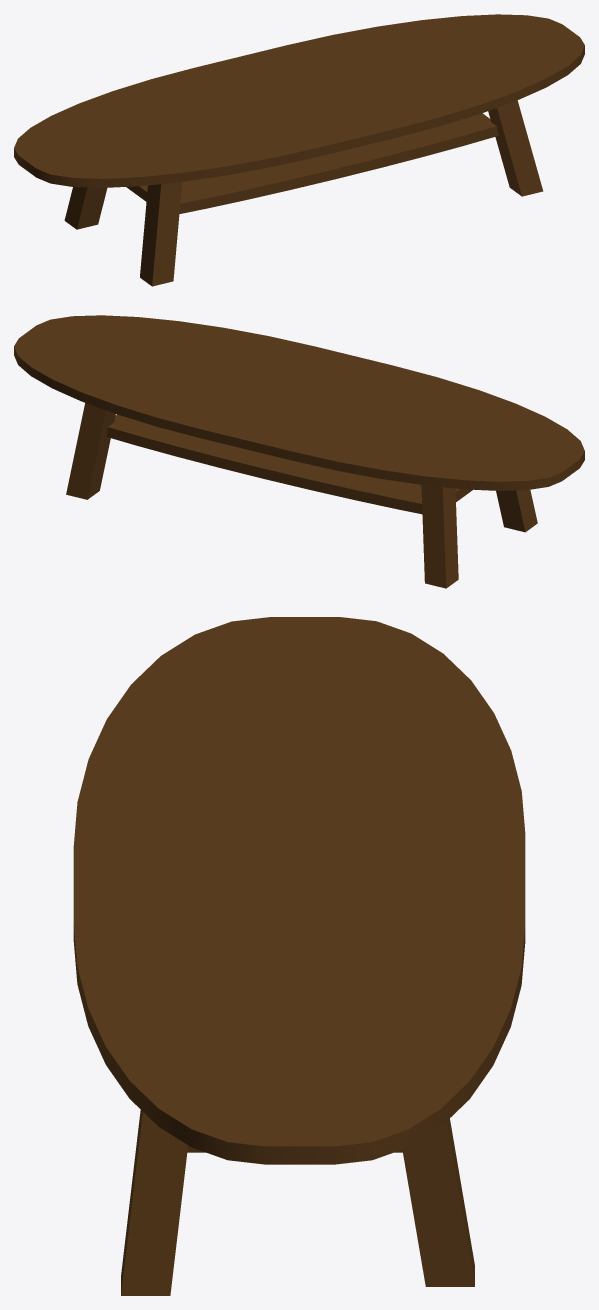
The model's file is Living_room_table.fbx.
3 renders of one model, top to bottom at view 1: azimuth 30°, elevation 25°; view 2: azimuth 150°, elevation 25°; view 3: azimuth 270°, elevation 25°, orthographic. The views are drawn at different scales.
Visible parts, largest first — view 1: Cube; view 2: Cube; view 3: Cube.
Part boxes in pixels (left/top/right/bottom): Cube: left=14, top=14, right=584, bottom=286; Cube: left=14, top=315, right=584, bottom=588; Cube: left=73, top=617, right=525, bottom=1295.
Bounding box in the file's own units: 614 × 119 × 221.
